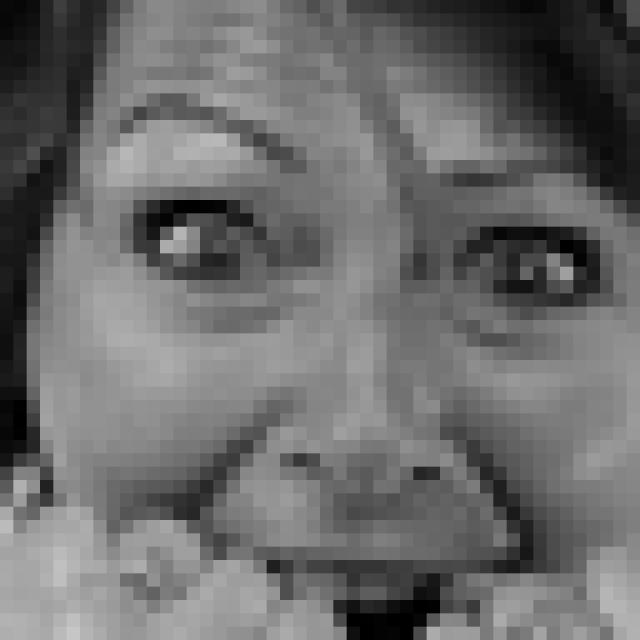fear: (105, 93, 620, 640)
